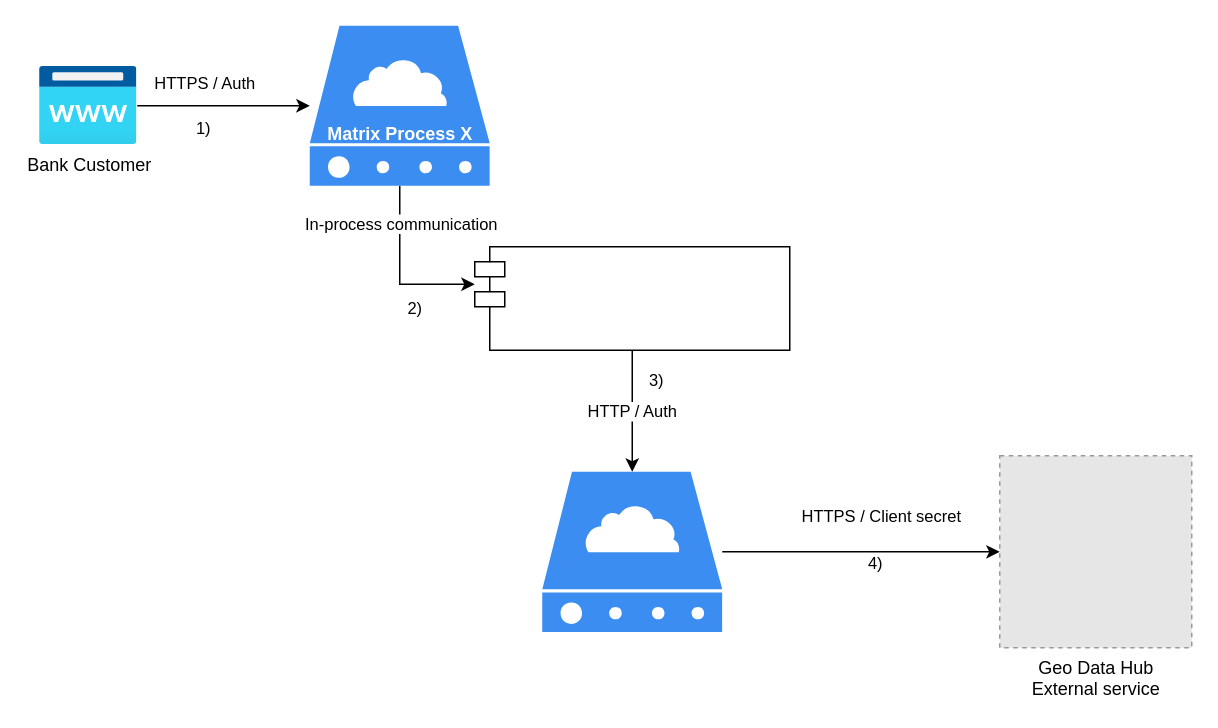
The diagram is 1218 pixels wide and 728 high, and some of its shapes have lost their labels. Grey dashed boxes stand in for pictures. The box of each missing label's shape, as (x1, y1, x2, y2) in pixels:
Collateral App: (542, 471, 722, 631)
Shared module AddressCheckWebController (POST /api/web/addresses/check): (473, 245, 790, 350)
